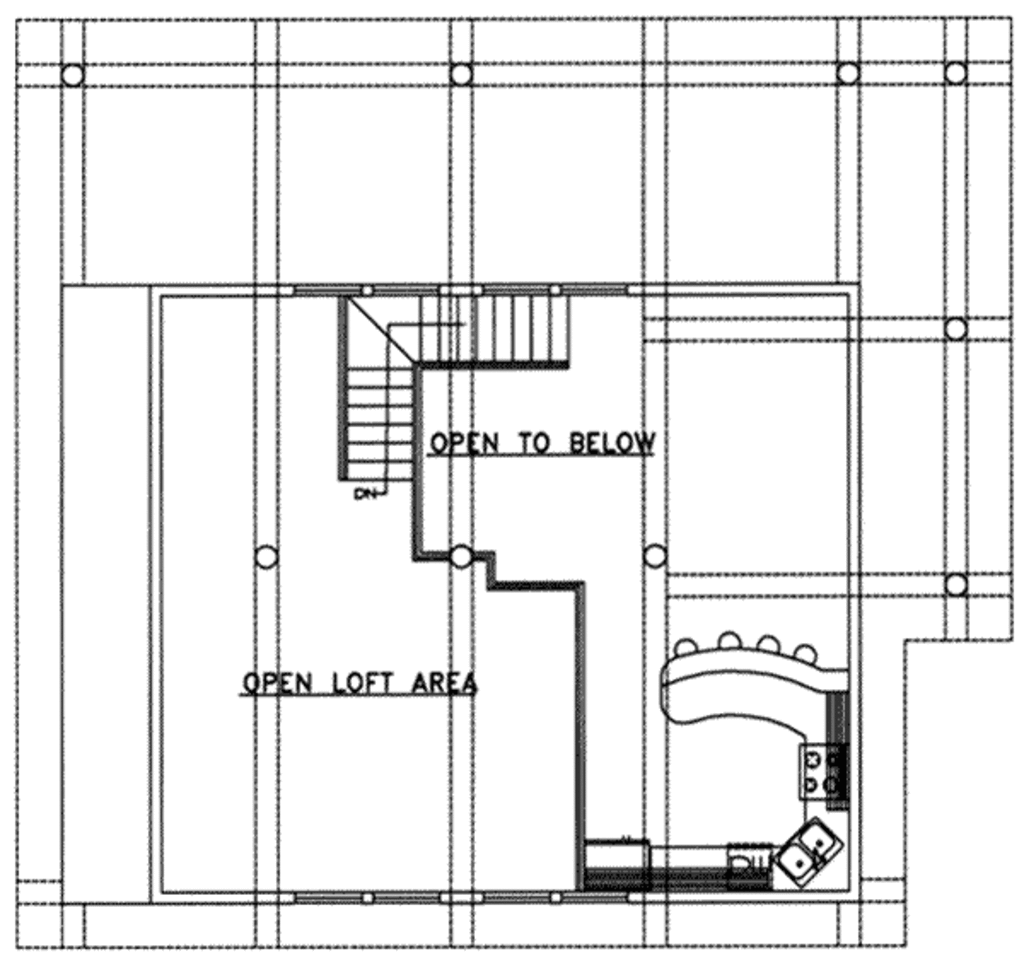kitchen_bar: (664, 609, 868, 808)
stairs: (321, 283, 584, 493)
twin_sink: (768, 815, 849, 894)
